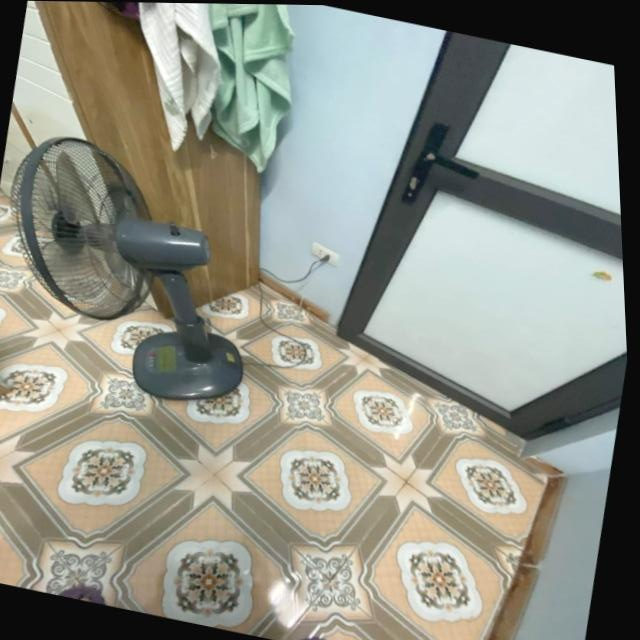outlet: (308, 243, 342, 268)
